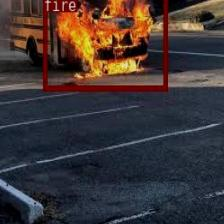fire: (42, 0, 166, 90)
